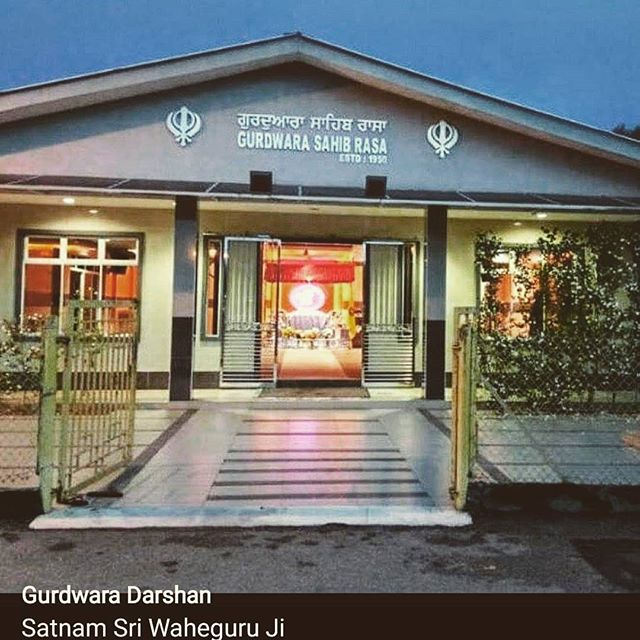Gurdwara: (13, 36, 623, 429)
